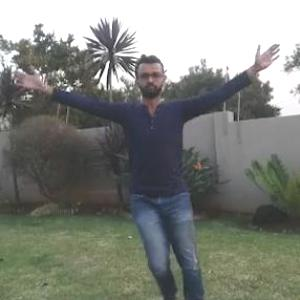takeoff: (6, 48, 268, 288)
